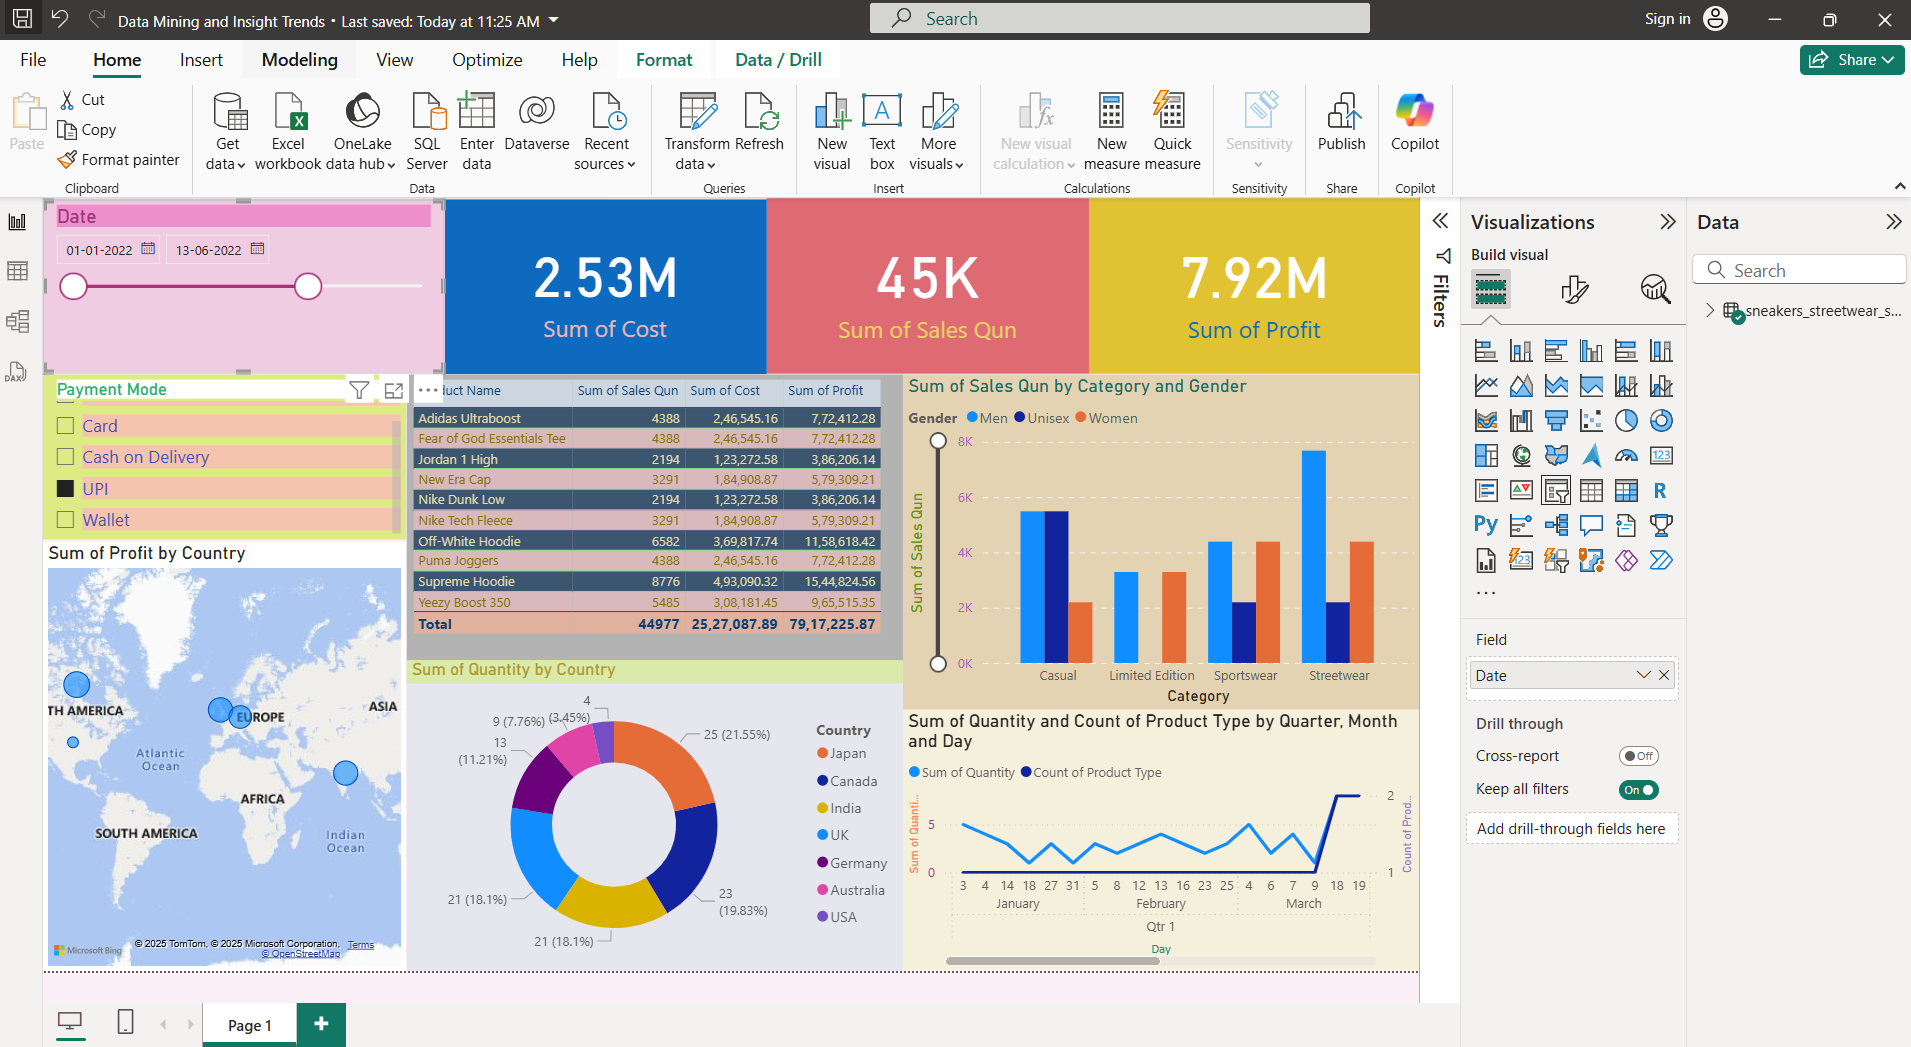

The dashboard page shown, as its layout file describes it:
{"tool":"powerbi","page":{"name":"Page 1","canvas":[1280,720],"ordinal":0},"visuals":[{"type":"card","fields":{"Values":["Sum(sneakers_streetwear_sales_data.Sum of Sales Quantity)"]},"box":[673.3,1.2,299.8,163.4],"z":0},{"type":"card","fields":{"Values":["Sum(sneakers_streetwear_sales_data.Sum of Cost Unit Price)"]},"box":[373.5,2.5,299.8,162.2],"z":1000},{"type":"card","fields":{"Values":["Sum(sneakers_streetwear_sales_data.Sum of Profit Amount)"]},"box":[973.1,1.2,307.2,163.4],"z":2000},{"type":"clusteredColumnChart","fields":{"Category":["sneakers_streetwear_sales_data.Category","sneakers_streetwear_sales_data.Date.Variation.Date Hierarchy.Year","sneakers_streetwear_sales_data.Date.Variation.Date Hierarchy.Quarter"],"Y":["Sum(sneakers_streetwear_sales_data.Sales Qun)"],"Series":["sneakers_streetwear_sales_data.Gender"]},"box":[800,165.1,480.2,311.6],"z":3000},{"type":"lineChart","fields":{"Category":["sneakers_streetwear_sales_data.Date.Variation.Date Hierarchy.Quarter","sneakers_streetwear_sales_data.Date.Variation.Date Hierarchy.Month","sneakers_streetwear_sales_data.Date.Variation.Date Hierarchy.Day"],"Y2":["CountNonNull(sneakers_streetwear_sales_data.Product Type)"],"Y":["Sum(sneakers_streetwear_sales_data.Quantity)"]},"box":[799.8,476.7,480.4,243.3],"z":4000},{"type":"donutChart","fields":{"Y":["Sum(sneakers_streetwear_sales_data.Quantity)"],"Category":["sneakers_streetwear_sales_data.Country"]},"box":[337.9,430,462,290],"z":5000},{"type":"tableEx","fields":{"Values":["sneakers_streetwear_sales_data.Product Name","Sum(sneakers_streetwear_sales_data.Sales Quantity)","Sum(sneakers_streetwear_sales_data.Cost Unit Price)","Sum(sneakers_streetwear_sales_data.Profit Amount)"]},"box":[337.9,164.6,462,265.4],"z":6000},{"type":"map","fields":{"Category":["sneakers_streetwear_sales_data.Country"],"Size":["Sum(sneakers_streetwear_sales_data.Profit)"]},"box":[0,320.7,337.9,399.3],"z":7000},{"type":"slicer","fields":{"Values":["sneakers_streetwear_sales_data.Payment Mode"]},"box":[0,164.6,337.9,153.6],"z":8000},{"type":"slicer","fields":{"Values":["sneakers_streetwear_sales_data.Date"]},"box":[0,2.5,373.5,161],"z":9000}]}

Visuals, with their boxes on the page's 1280x720 design canvas (x1, y1, x2, y2). These are canvas units, not pixel positions in the 1911x1047 screenshot, which may show the page scaled, cropped or inside an application window:
card - Sum(sneakers_streetwear_sales_data.Sum of Sales Quantity): box=[673, 1, 973, 165]
card - Sum(sneakers_streetwear_sales_data.Sum of Cost Unit Price): box=[374, 2, 673, 165]
card - Sum(sneakers_streetwear_sales_data.Sum of Profit Amount): box=[973, 1, 1280, 165]
clusteredColumnChart - sneakers_streetwear_sales_data.Category x sneakers_streetwear_sales_data.Date.Variation.Date Hierarchy.Year: box=[800, 165, 1280, 477]
lineChart - sneakers_streetwear_sales_data.Date.Variation.Date Hierarchy.Quarter x sneakers_streetwear_sales_data.Date.Variation.Date Hierarchy.Month: box=[800, 477, 1280, 720]
donutChart - Sum(sneakers_streetwear_sales_data.Quantity) x sneakers_streetwear_sales_data.Country: box=[338, 430, 800, 720]
tableEx - sneakers_streetwear_sales_data.Product Name x Sum(sneakers_streetwear_sales_data.Sales Quantity): box=[338, 165, 800, 430]
map - sneakers_streetwear_sales_data.Country x Sum(sneakers_streetwear_sales_data.Profit): box=[0, 321, 338, 720]
slicer - sneakers_streetwear_sales_data.Payment Mode: box=[0, 165, 338, 318]
slicer - sneakers_streetwear_sales_data.Date: box=[0, 2, 374, 164]
